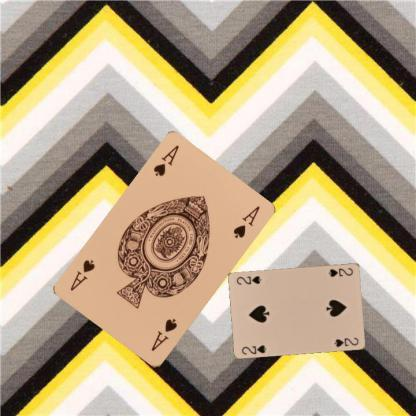2s: (239, 342, 268, 356), (326, 265, 354, 278)
As: (148, 316, 178, 353), (150, 143, 181, 178)
